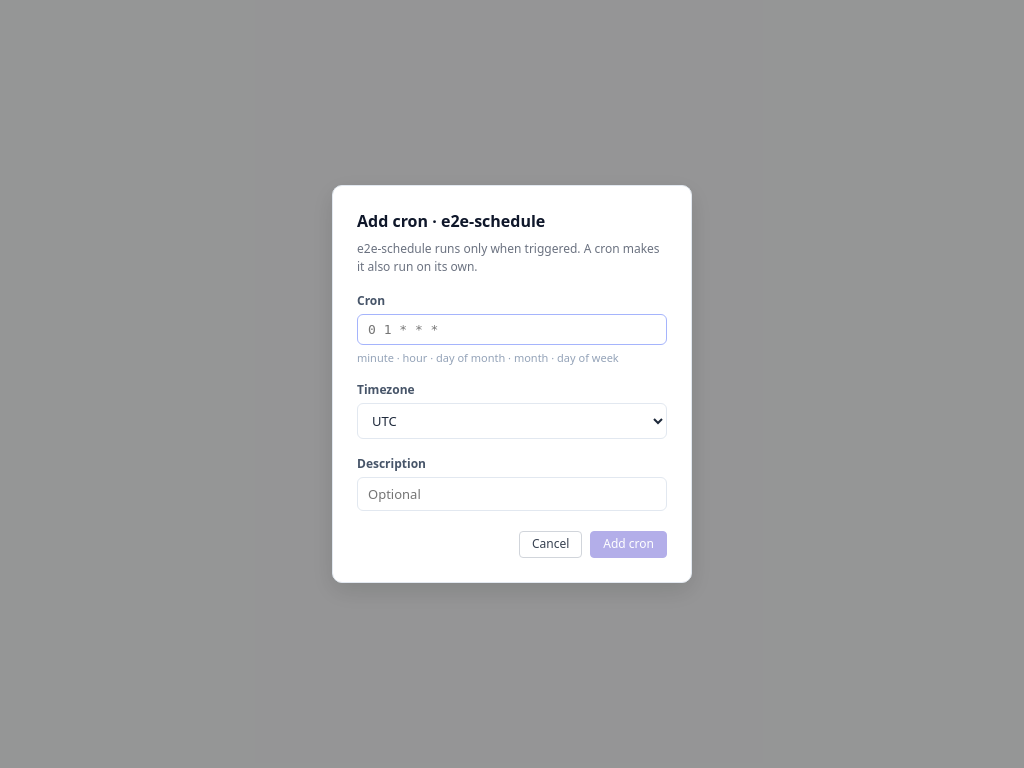
Test case: CronDialog › CronDialog add defaults the timezone to the browser zone and saves paused false at version 0
Expected: the dropdown labelled "Timezone" shows "UTC", [357, 403, 667, 439]
Type "30 6 * * 1-5" into the field labelled "Cron" at point(512, 330), box [357, 314, 667, 345]
Wait 300 ms
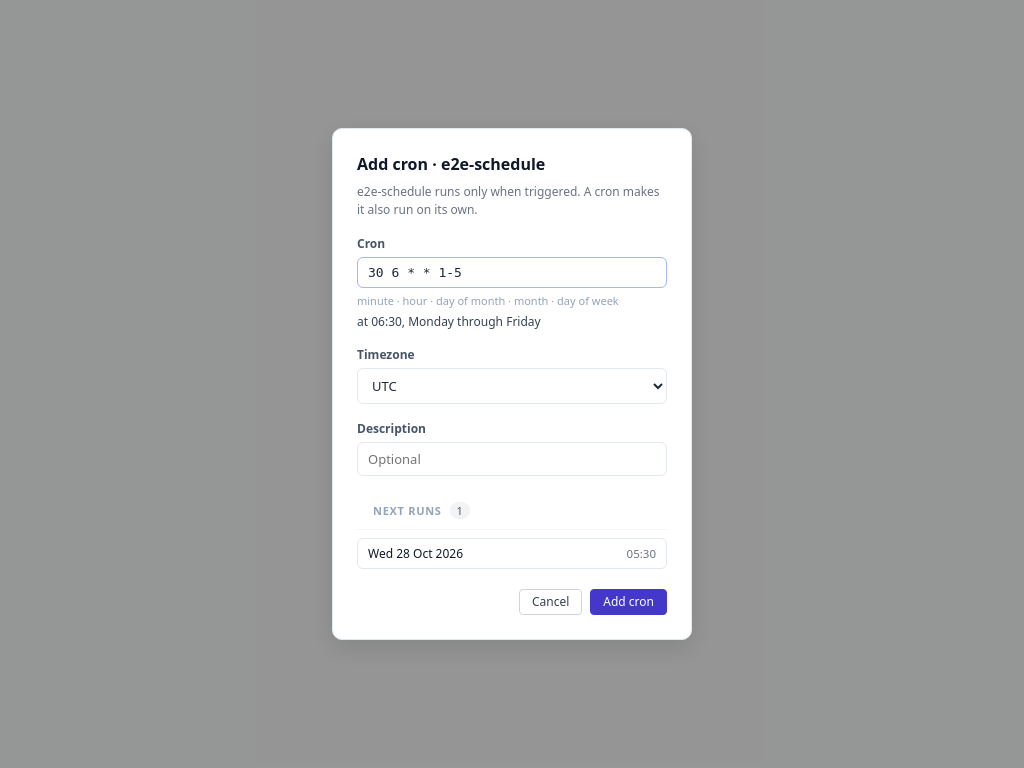
Expected: the text "at 06:30, Monday through Friday" is shown, [357, 313, 541, 330]
Click the button "Add cron" at point(629, 602), box [590, 589, 667, 615]
Wait 1000 ms
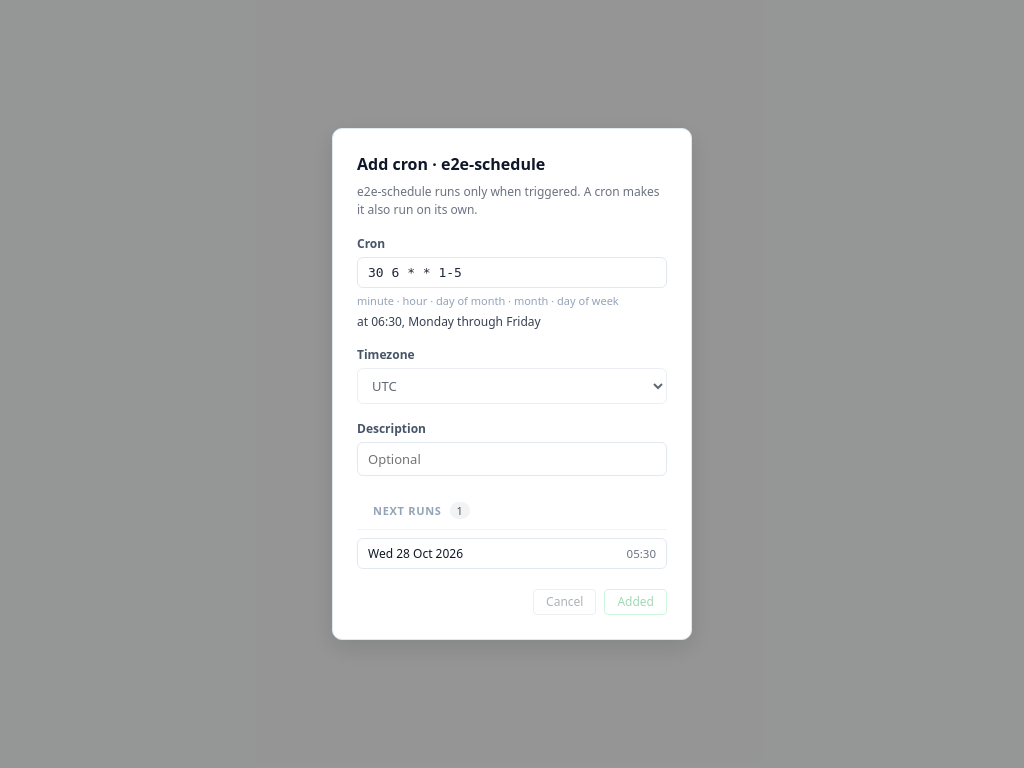
Expected: the button "Added" is shown, [604, 589, 667, 615]
